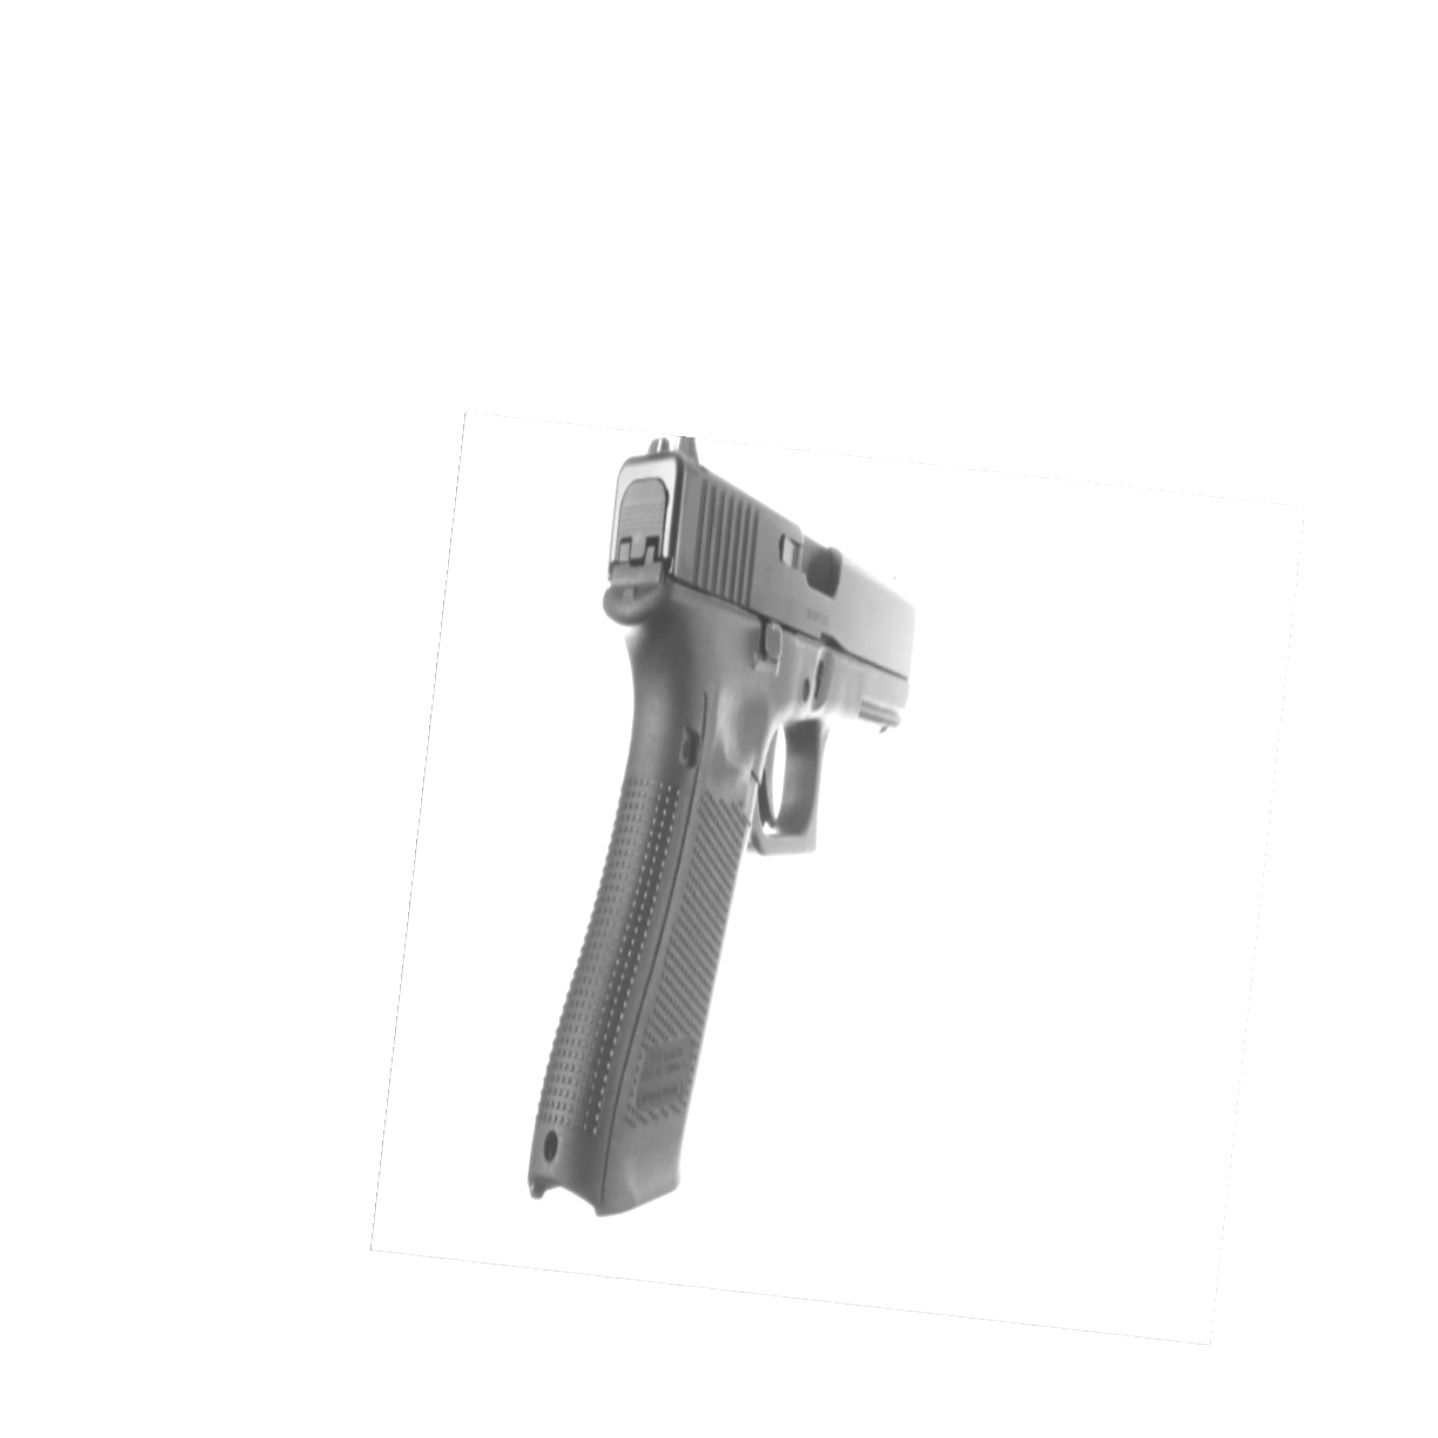gun: (511, 421, 915, 1227)
